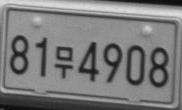0: (125, 44, 145, 85)
1: (33, 37, 52, 77)
4: (78, 41, 99, 81)
8: (148, 46, 170, 87), (9, 34, 29, 75)
9: (102, 42, 122, 82)
무: (54, 45, 73, 78)
